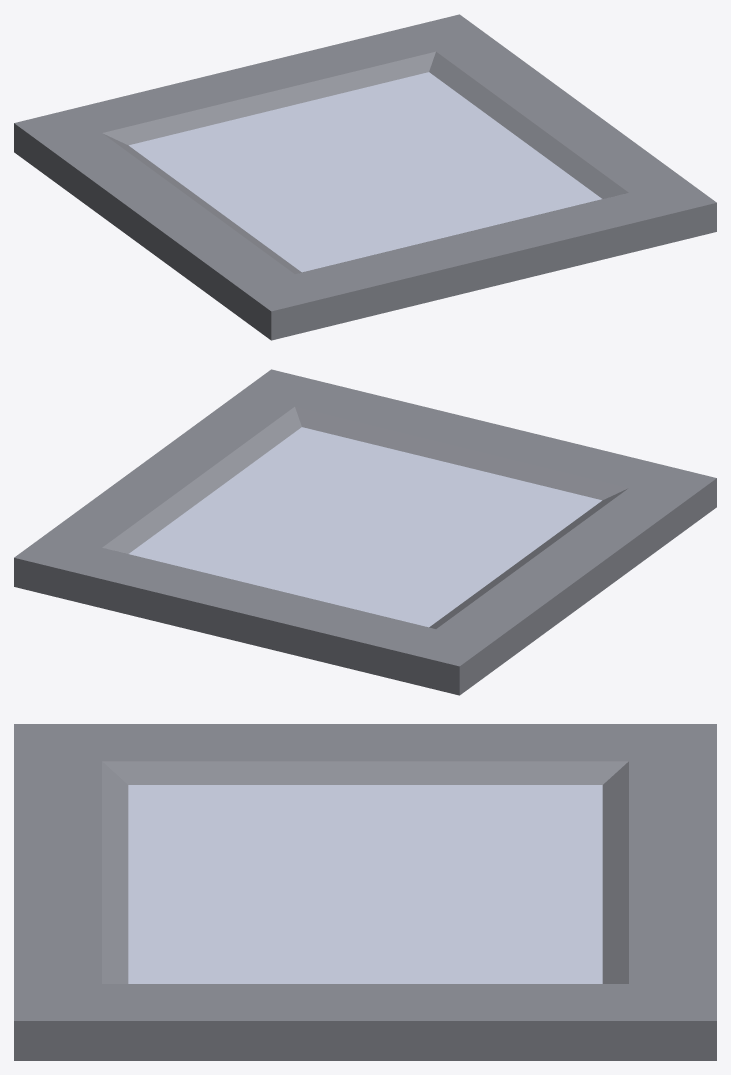
File: spaceInterior_050.obj
The picture shows the model from 3 angles, top to bottom: view 1: azimuth 30°, elevation 25°; view 2: azimuth 150°, elevation 25°; view 3: azimuth 270°, elevation 25°; orthographic projection. The views are drawn at different scales.
Parts seen in each view (by area): view 1: Mesh1 Group1 Model; view 2: Mesh1 Group1 Model; view 3: Mesh1 Group1 Model.
Boxes of the visible parts, x1,y1,x2,y2 form: Mesh1 Group1 Model: (14,14,716,340); Mesh1 Group1 Model: (14,369,716,695); Mesh1 Group1 Model: (14,724,716,1060).
Bounding box in the file's own units: 1 × 0.0625 × 1.
